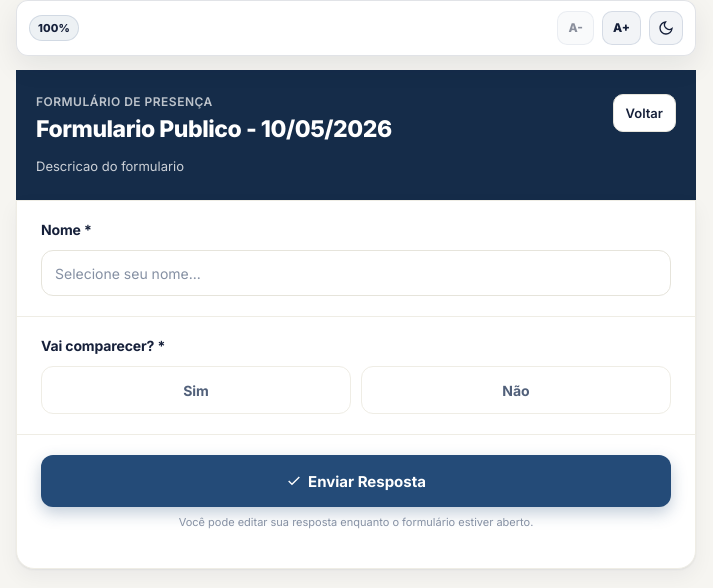
Scenario: PublicFormScreen › nao oferece enviar outra resposta apos concluir
Select "Maria" in the dropdown at [356, 273], box 41,250 -> 671,296
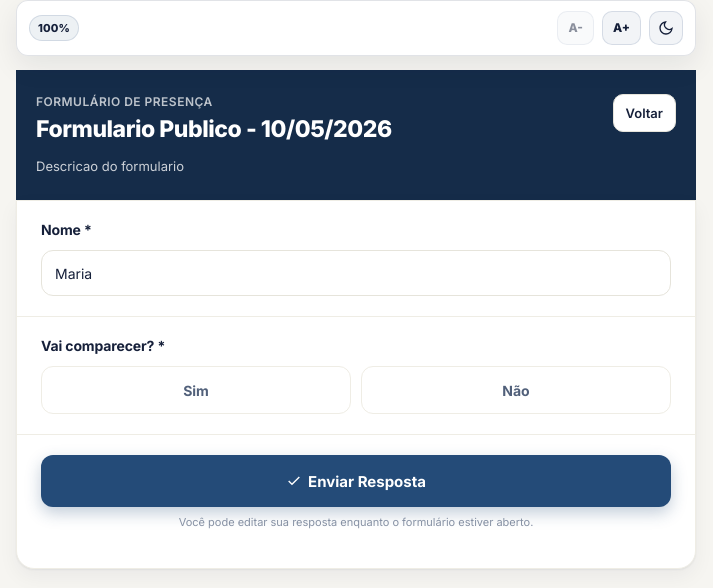
Click the button "Sim" at [196, 390], box 41,366 -> 351,414
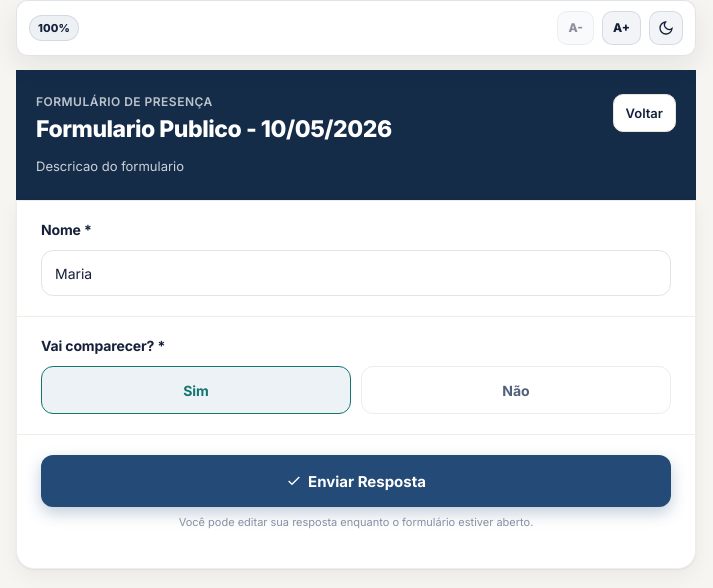
Click the button "Enviar Resposta" at [356, 481], box 41,455 -> 671,507
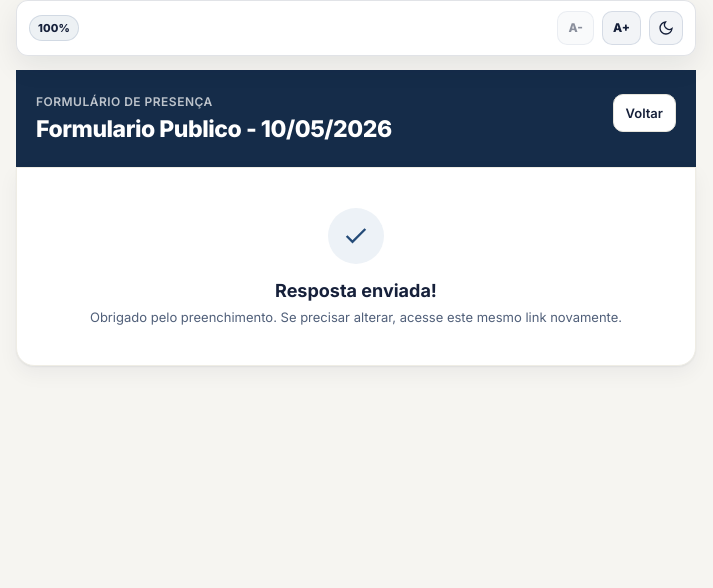
expect the heading "Resposta enviada!" is shown: met, box 275,280 -> 437,301
